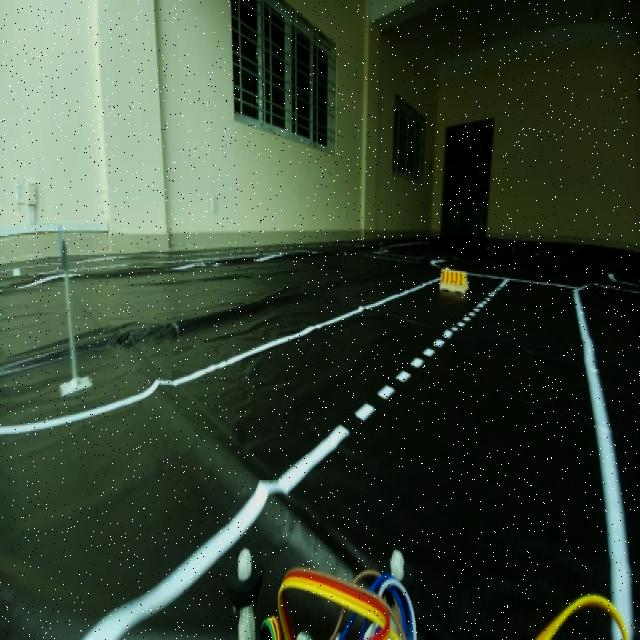roadblock: (434, 265, 470, 301)
